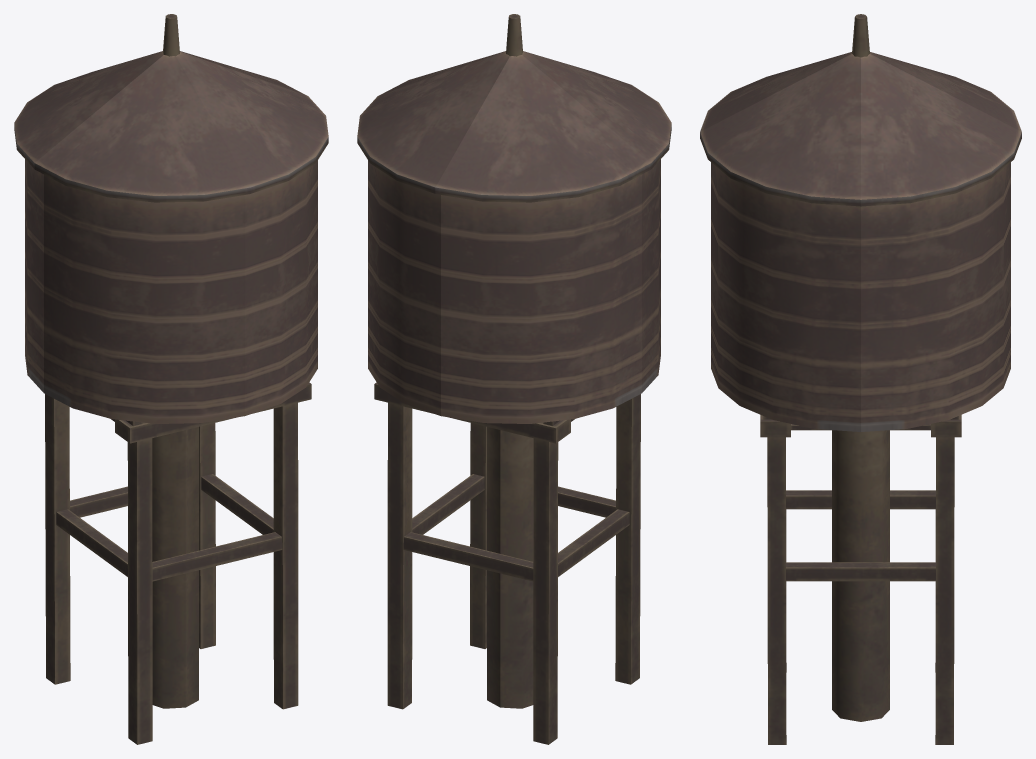
The model's file is Water_tower01.fbx.
The picture shows the model from 3 angles, left to right: view 1: azimuth 30°, elevation 25°; view 2: azimuth 150°, elevation 25°; view 3: azimuth 270°, elevation 25°; orthographic projection.
Parts seen in each view (by area): view 1: Water_tower01; view 2: Water_tower01; view 3: Water_tower01.
Boxes of the visible parts, bbox=[...] form: Water_tower01: bbox=[14, 14, 328, 744]; Water_tower01: bbox=[357, 14, 671, 744]; Water_tower01: bbox=[700, 14, 1021, 744].
Bounding box in the file's own units: 272 × 645 × 272.
